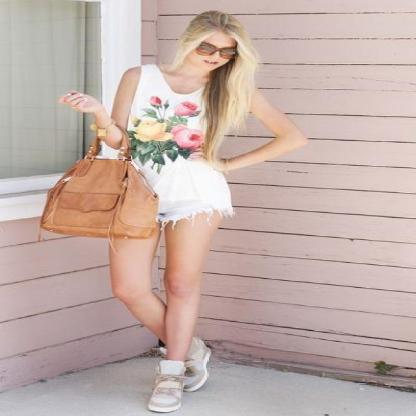bag: (41, 158, 161, 243)
dress: (123, 58, 233, 226)
shoe: (149, 336, 214, 416)
sunglass: (196, 42, 239, 67)
